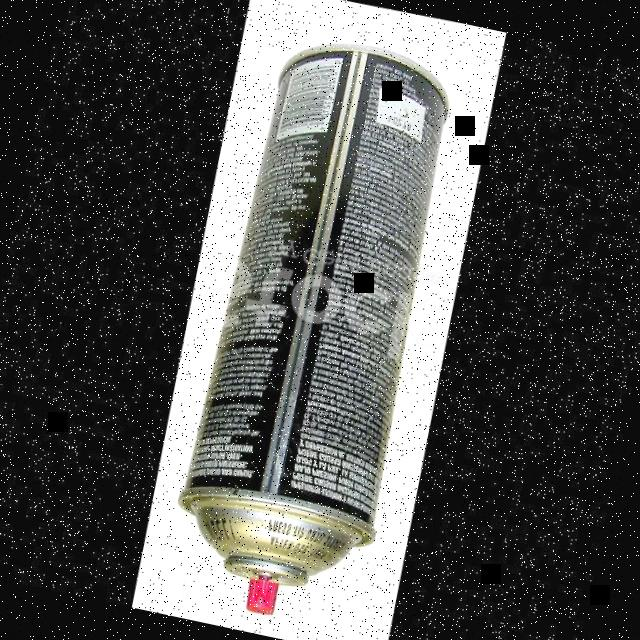chemical_spray_can: (179, 42, 450, 614)
